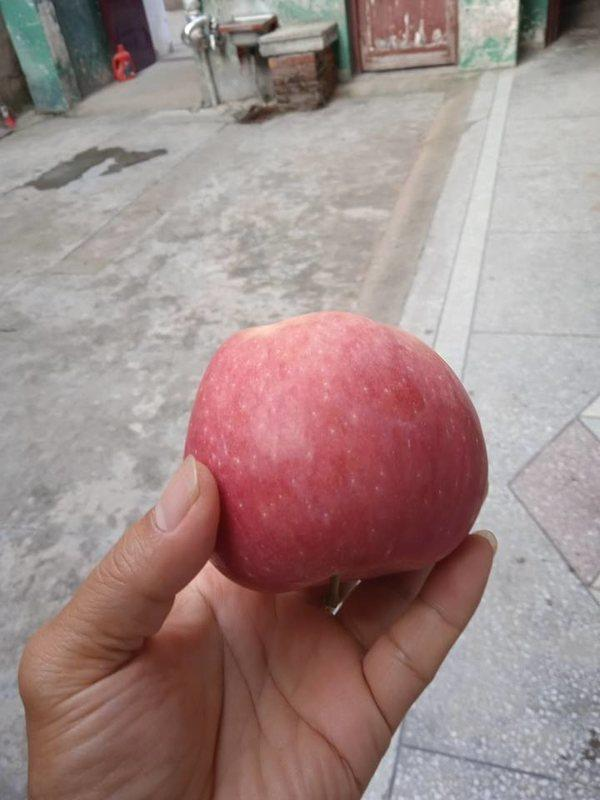apple: (182, 305, 488, 590)
